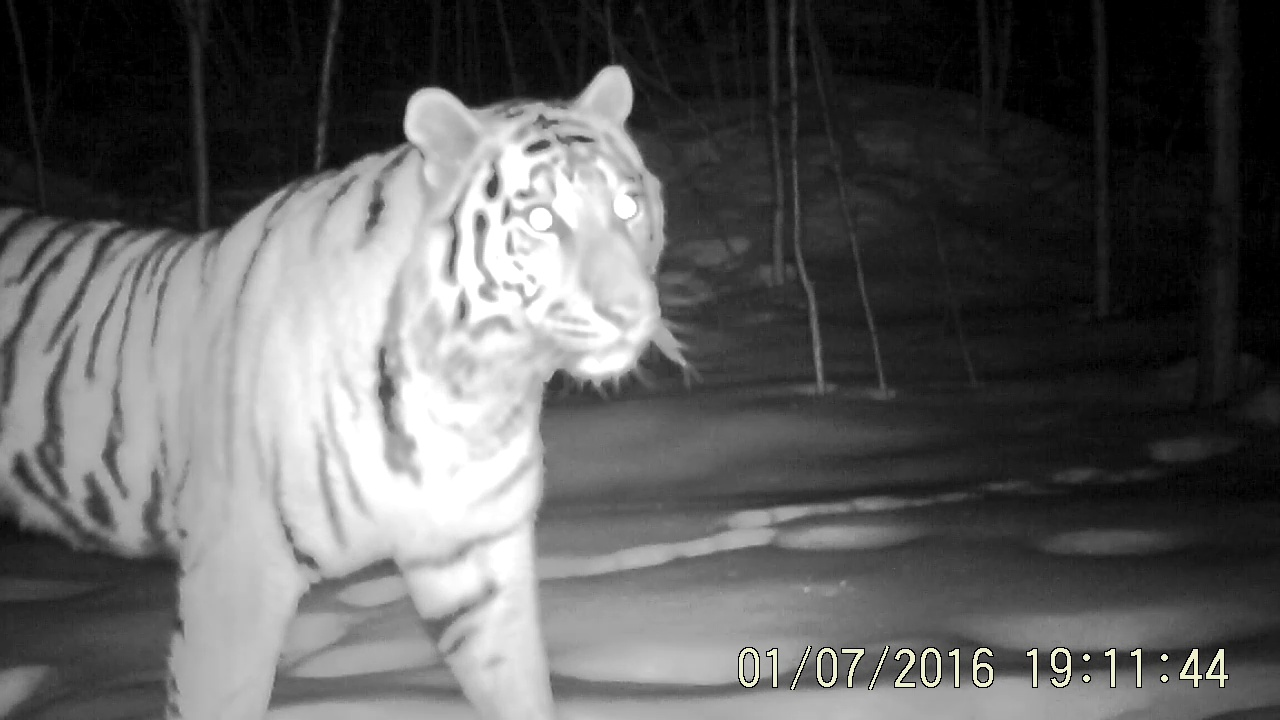Tiger: (6, 7, 722, 720)
